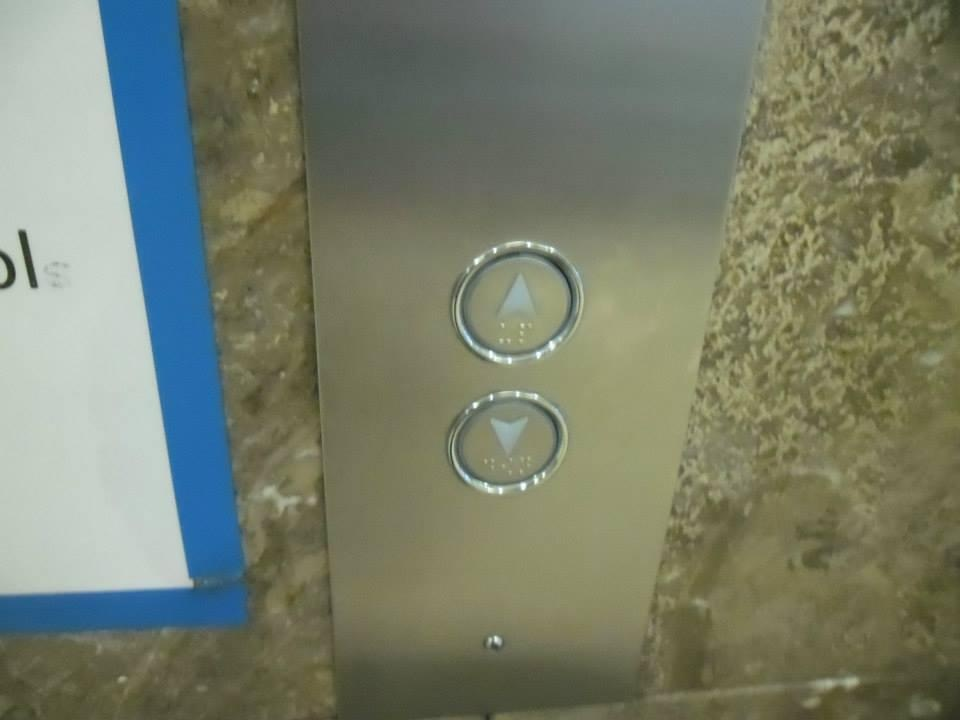down: (443, 386, 570, 499)
up: (445, 240, 586, 369)
